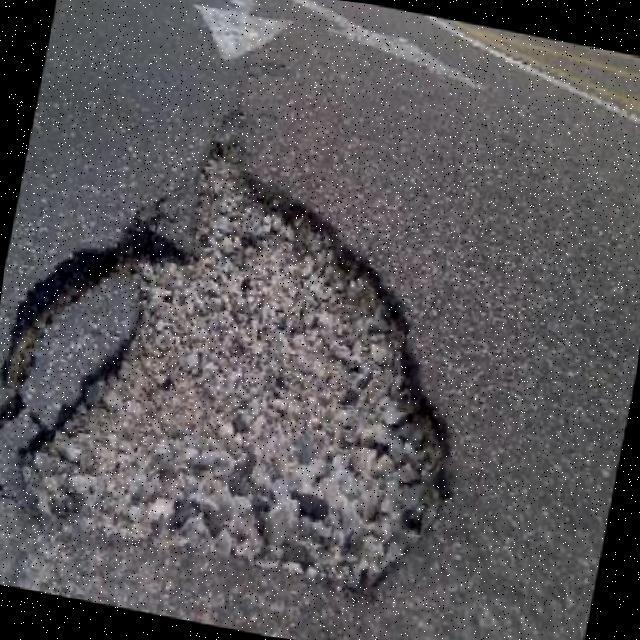Pothole: (0, 146, 450, 591)
